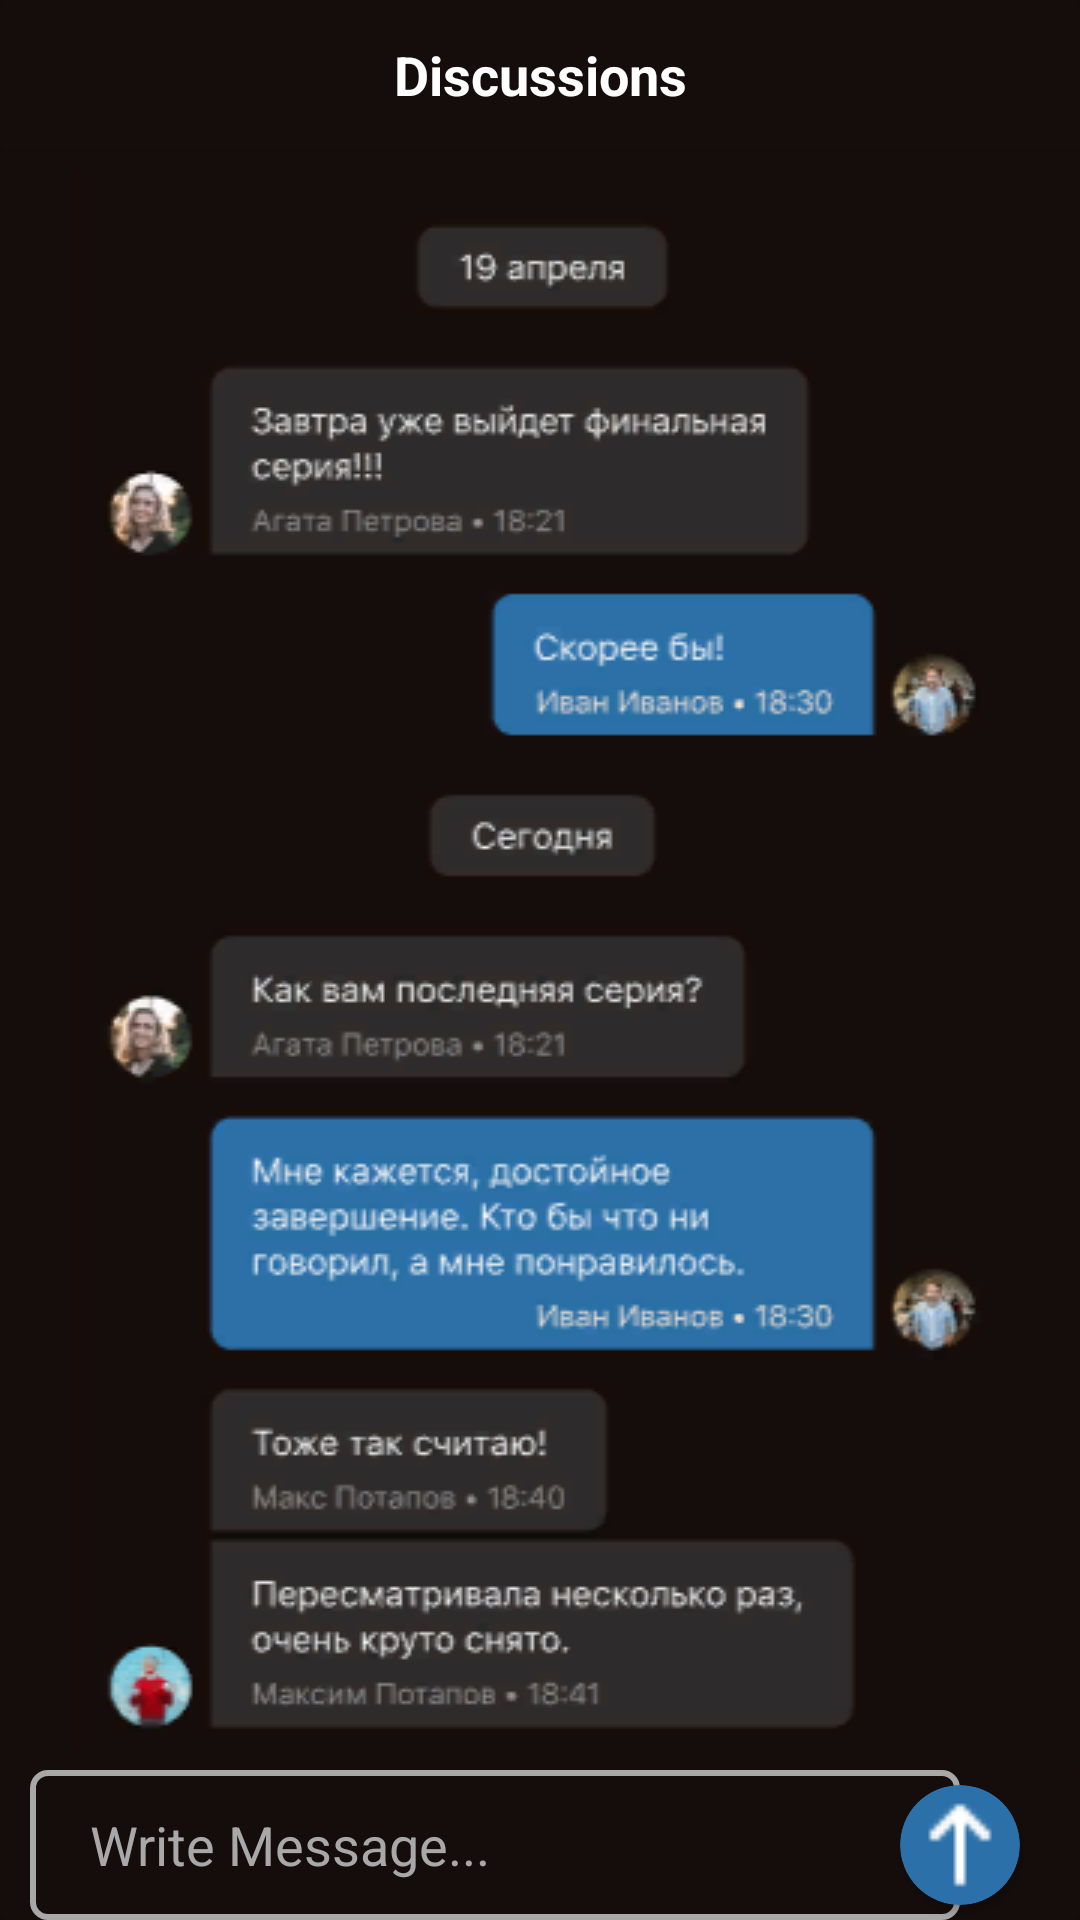

Point at icon controls on the screen. Image size 1080 x 1920, points as point (x, y).
arrow up: point (960, 1845)
